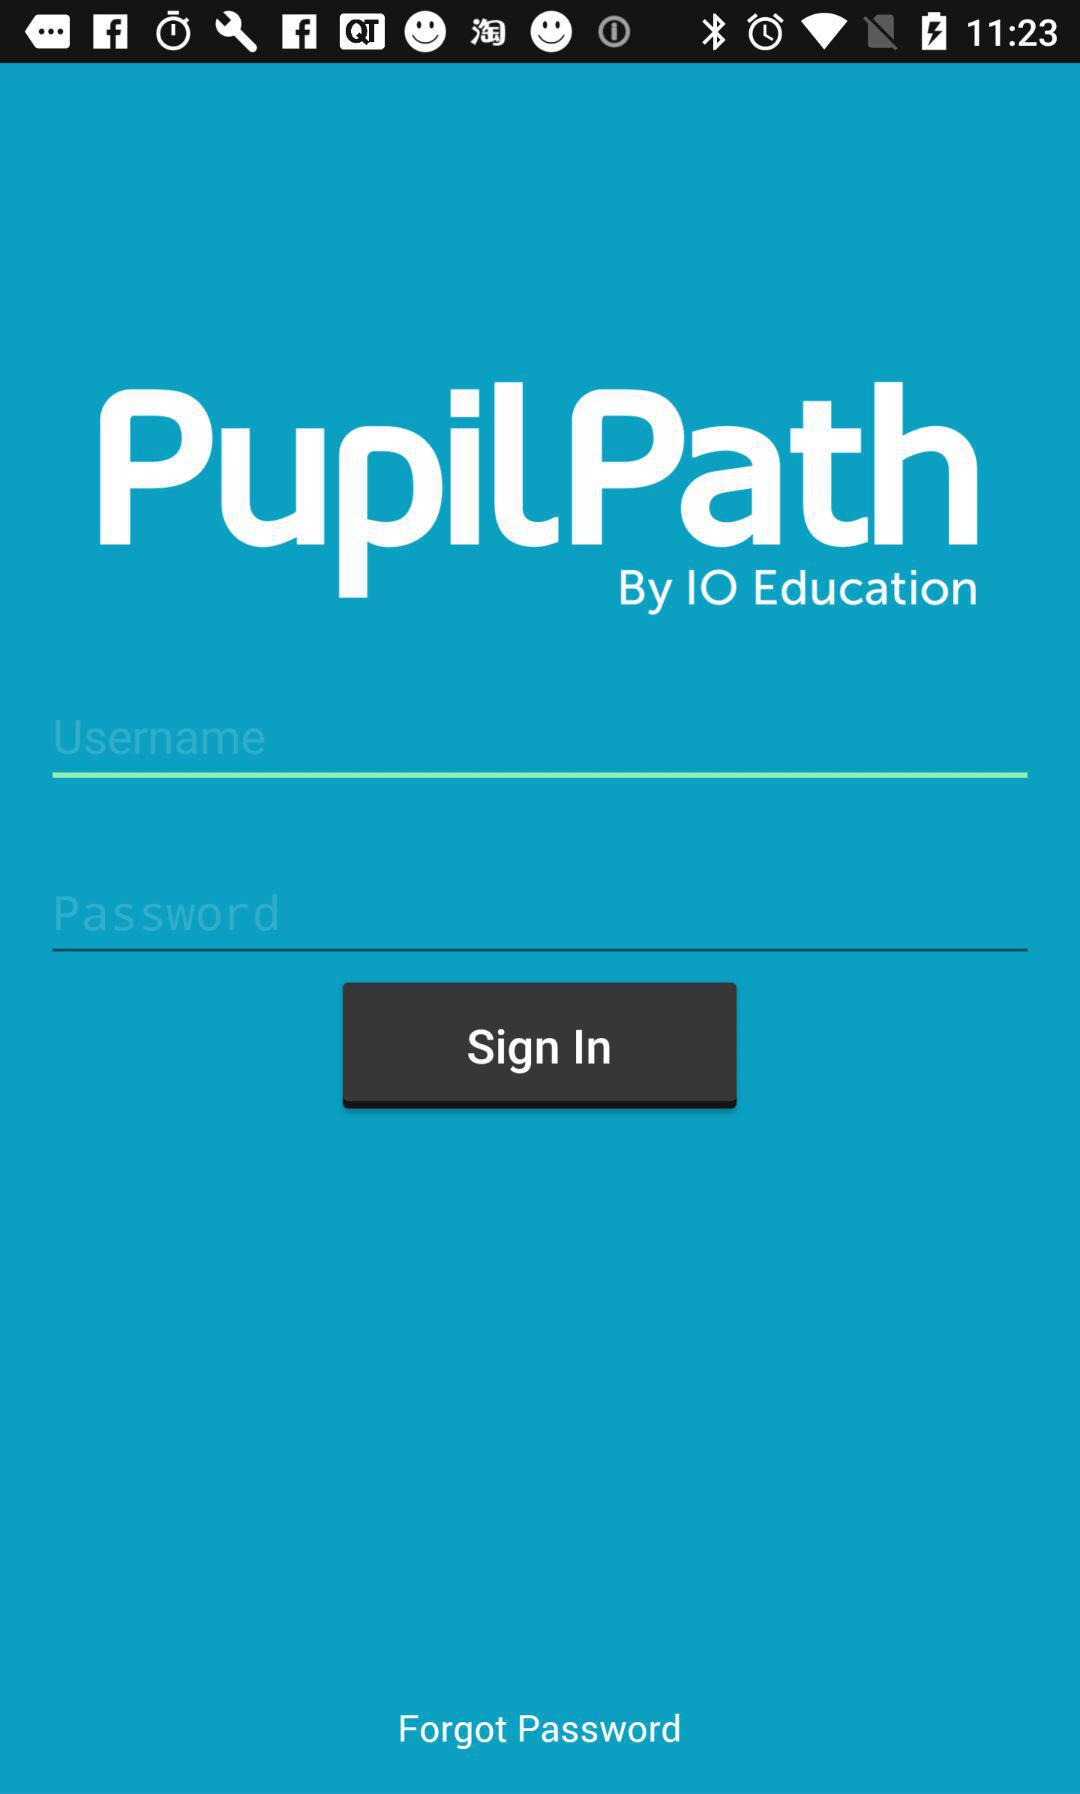EditText: (53, 719, 1029, 780), (53, 894, 1029, 953)
Image: (99, 381, 979, 618)
Text: (398, 1712, 682, 1750), (55, 894, 279, 933), (55, 719, 266, 756)
TextButton: (343, 982, 737, 1110)
UpperTaskBar: (1, 1, 1080, 64)
